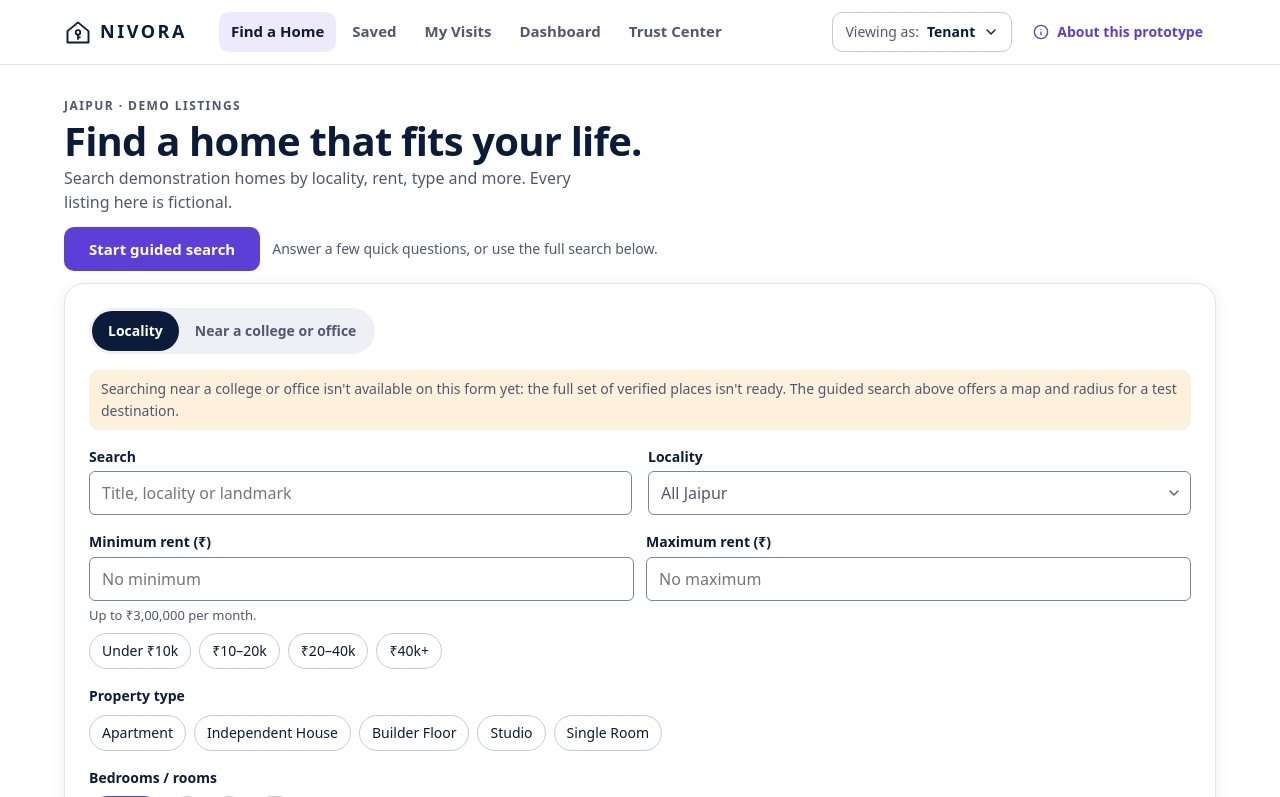
it: Shells and role switcher › closes the role menu on Escape
Click the button "Viewing as: Tenant".
click(922, 32)  # box [832, 12, 1012, 52]
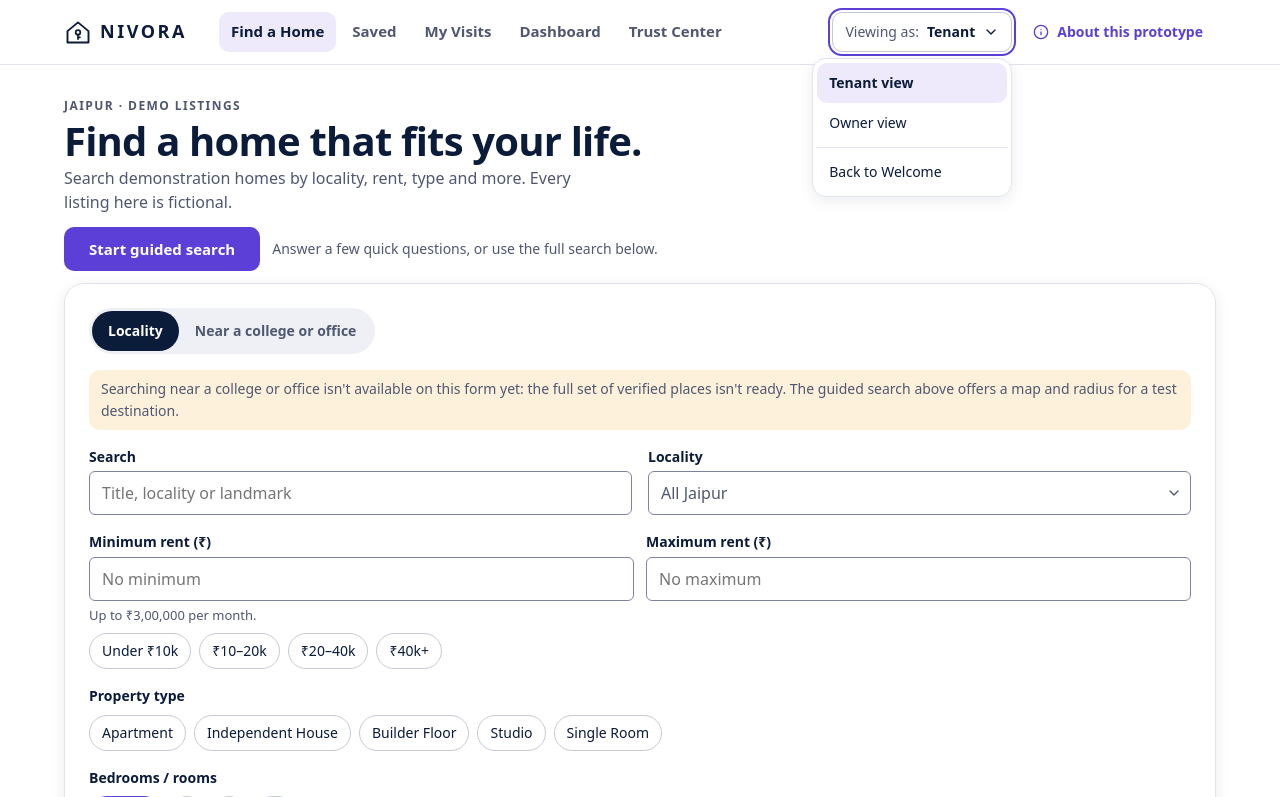
Now the button "Owner view" is shown, box [817, 103, 1007, 143]
Press Escape
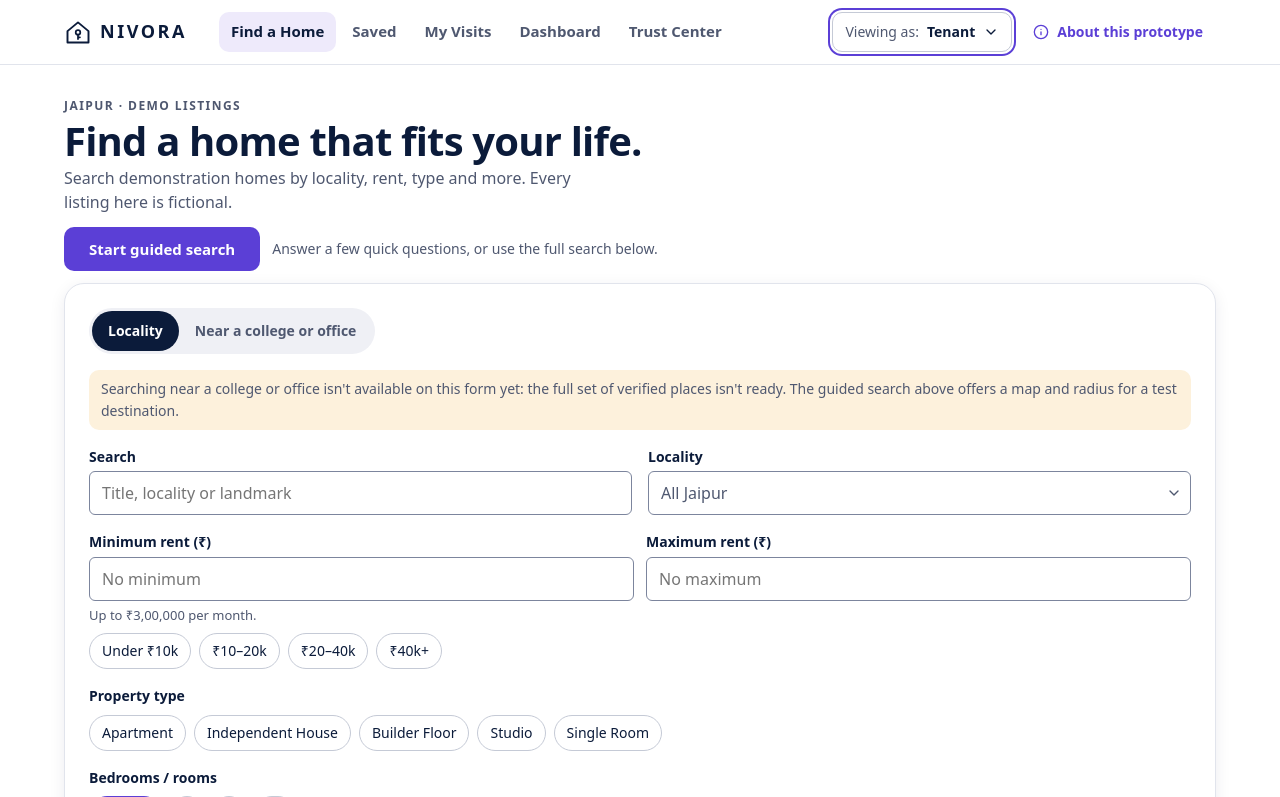
Now the button "Owner view" is gone
